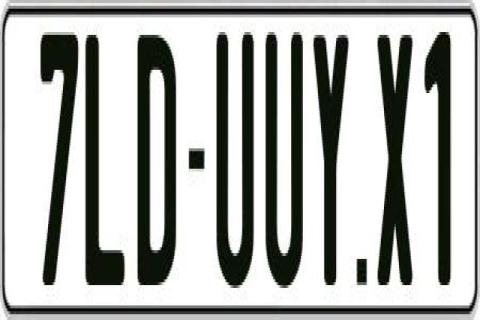0: (40, 29, 82, 285), (423, 32, 454, 285)
D: (136, 35, 178, 303)
L: (82, 35, 126, 303)
U: (217, 26, 258, 300), (265, 26, 305, 288)
X: (374, 35, 411, 297)
Y: (313, 35, 348, 299)
